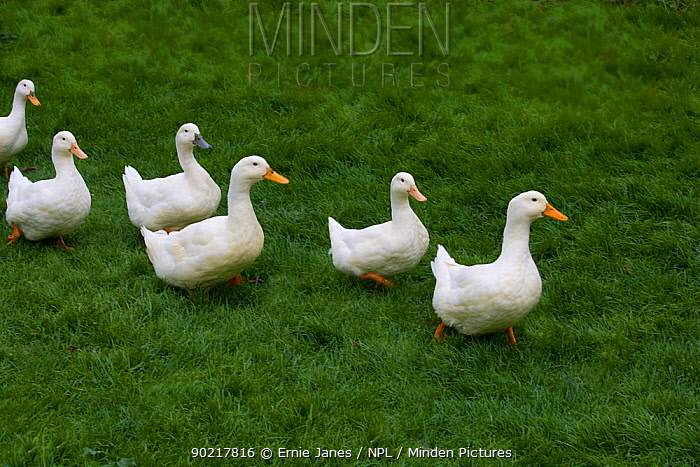Mencari Makan di Lumpur: (538, 199, 573, 226), (258, 168, 293, 191), (190, 129, 215, 155), (404, 183, 427, 204), (67, 143, 90, 163), (24, 88, 44, 108)
